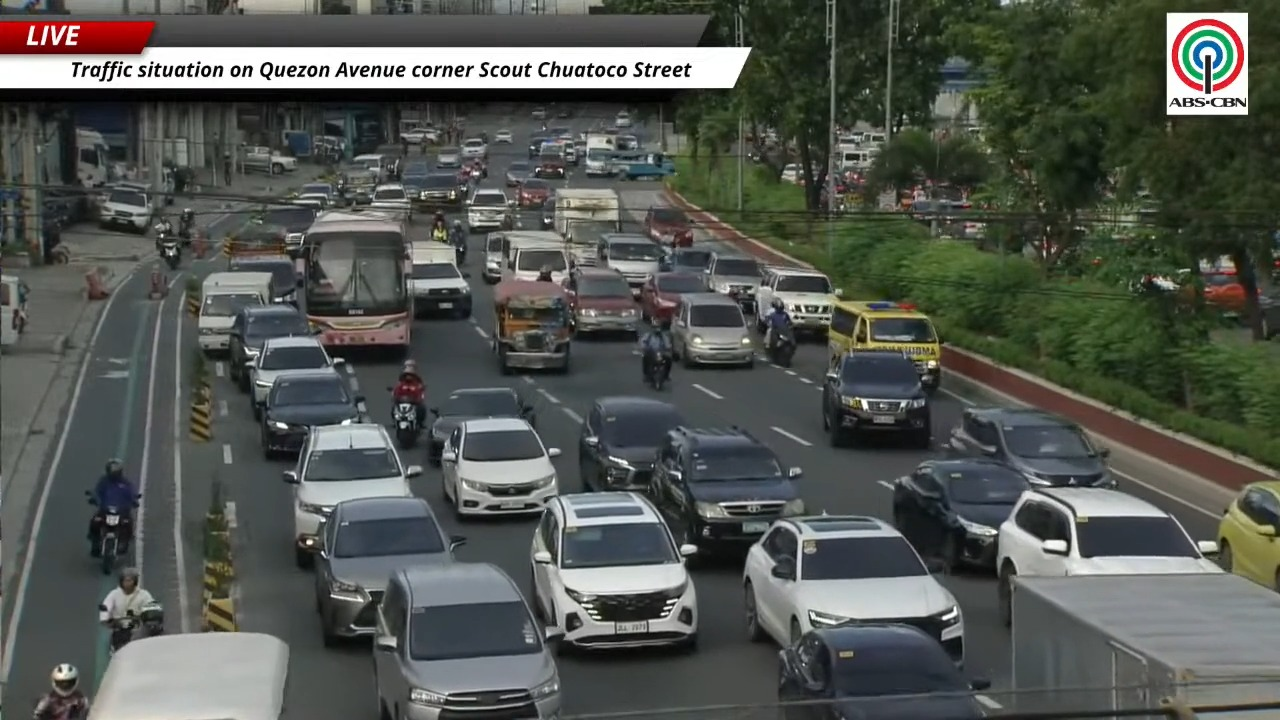bus: (301, 210, 412, 352)
car: (743, 515, 964, 665), (997, 486, 1222, 626), (373, 562, 562, 719), (530, 492, 698, 652), (314, 497, 464, 645), (778, 622, 990, 719), (282, 422, 422, 568), (648, 425, 804, 550), (892, 458, 1028, 569), (943, 407, 1116, 487), (440, 418, 560, 517), (822, 350, 931, 448), (578, 396, 684, 490), (260, 368, 364, 459), (428, 387, 535, 464), (249, 335, 344, 419), (228, 305, 314, 391), (1217, 481, 1279, 591), (671, 292, 754, 367), (756, 267, 842, 334), (564, 267, 640, 336), (410, 244, 473, 318), (597, 233, 664, 296), (705, 252, 766, 312), (640, 272, 704, 321), (256, 202, 317, 253), (99, 186, 152, 234), (467, 188, 514, 232), (644, 206, 693, 246), (417, 173, 465, 207), (370, 183, 412, 221), (660, 247, 712, 277), (400, 161, 430, 203), (533, 145, 566, 178), (1259, 285, 1279, 339), (517, 177, 551, 208), (290, 193, 333, 213), (298, 182, 337, 203), (400, 126, 439, 144), (538, 190, 555, 229), (505, 161, 531, 186), (528, 133, 550, 159), (460, 138, 487, 159), (436, 147, 462, 168), (780, 163, 803, 183), (614, 111, 632, 128), (494, 129, 512, 144), (556, 105, 572, 118), (531, 107, 546, 119)
motorcycle: (108, 601, 164, 654), (93, 506, 130, 574), (95, 506, 127, 574), (109, 611, 140, 655), (392, 402, 420, 448), (34, 698, 87, 719), (767, 329, 795, 367), (647, 352, 672, 390), (159, 236, 180, 270), (177, 209, 194, 242), (452, 234, 467, 267), (153, 219, 172, 236), (431, 227, 447, 243)
truck: (1006, 573, 1279, 716), (553, 188, 623, 265), (410, 240, 471, 317), (75, 127, 111, 187), (609, 151, 675, 180), (242, 146, 297, 174), (581, 132, 615, 177)
